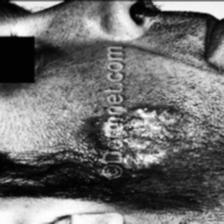Toxin: (100, 106, 191, 176)
